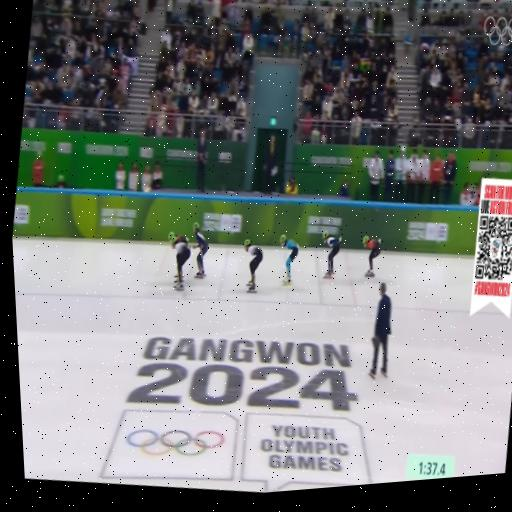Skater: (169, 232, 190, 291), (244, 240, 262, 292), (280, 235, 298, 286), (323, 232, 342, 278), (193, 223, 208, 278), (363, 236, 381, 277)
